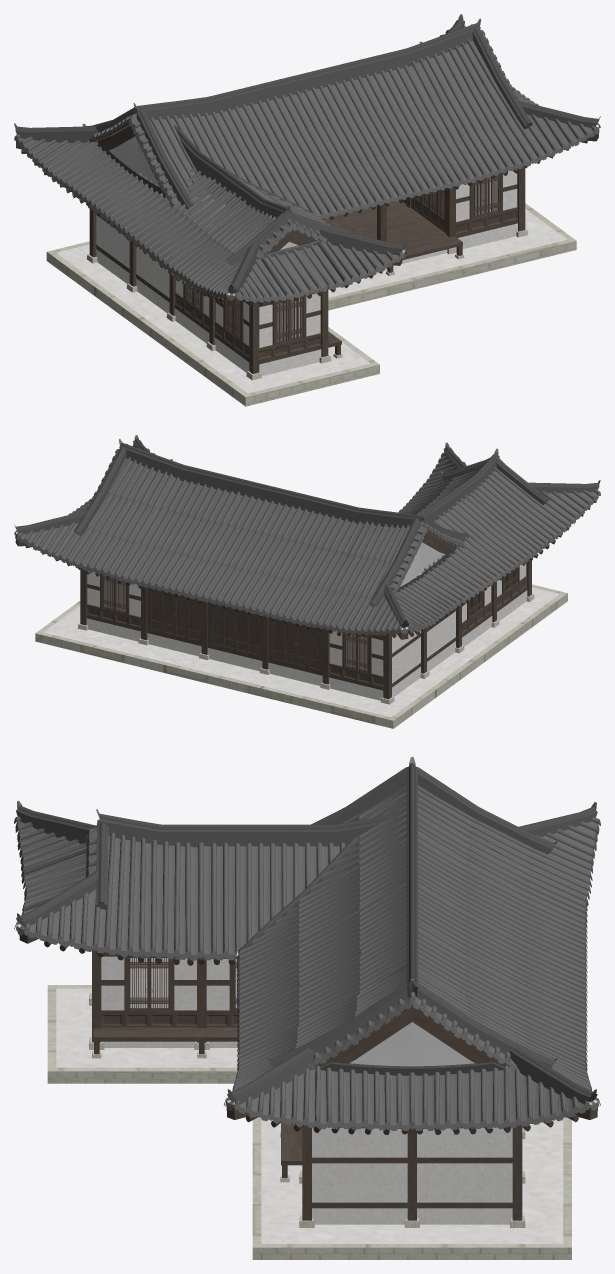
File: Giwa1.fbx
3 views of the same model, one above another, from view 1: azimuth 30°, elevation 25°; view 2: azimuth 150°, elevation 25°; view 3: azimuth 270°, elevation 25° (orthographic). The views are drawn at different scales.
Parts seen in each view (by area): view 1: Giwa2; view 2: Giwa2; view 3: Giwa2.
Boxes of the visible parts, box(x1,y1,x2,y2) form: Giwa2: box(14, 14, 600, 406); Giwa2: box(14, 435, 600, 728); Giwa2: box(14, 757, 600, 1259).
Size of the model in its own units: 1778 by 730 by 1506.
